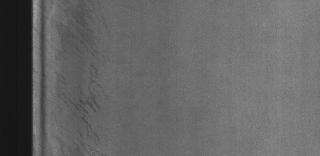water spot: (56, 3, 120, 151)
